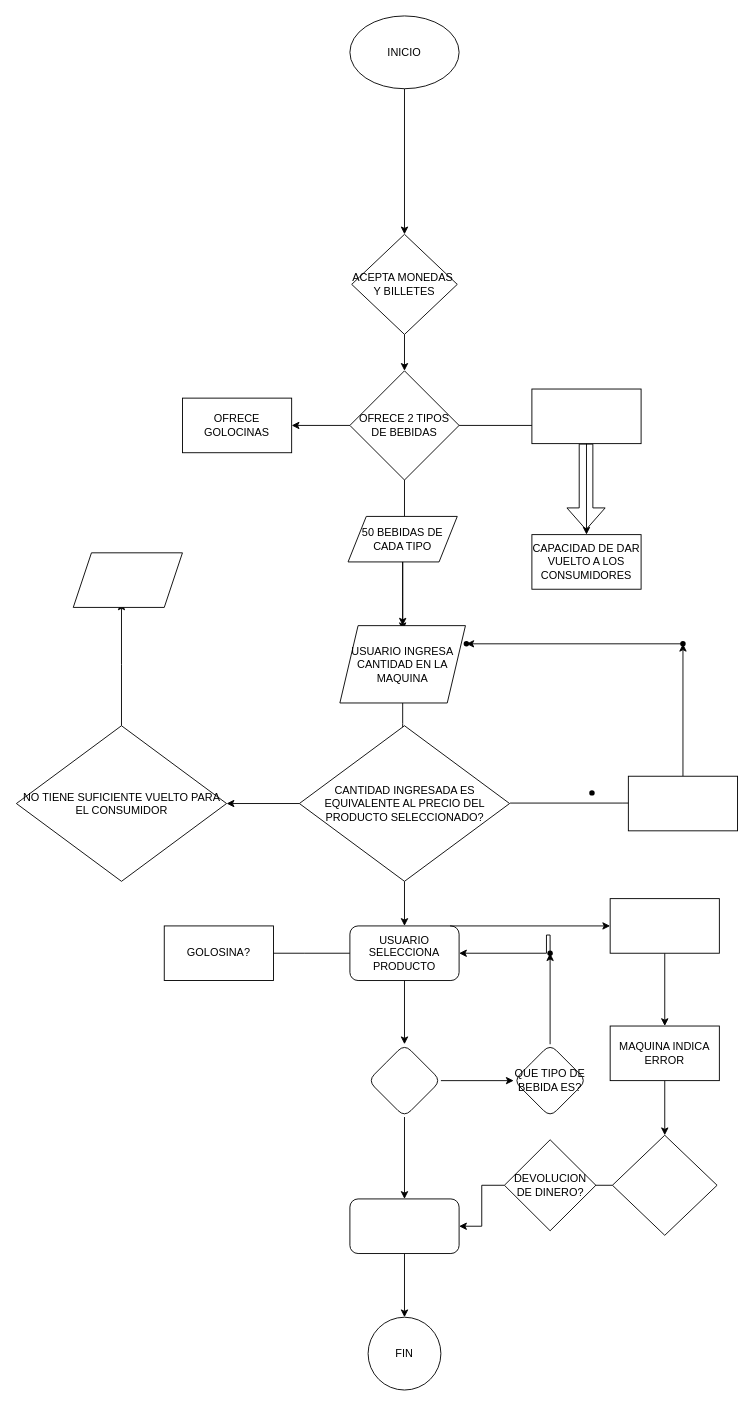
This 753x1406 diagram has some shape labels left out. The shapes that lost their labels are listed below. From the top down, each one's box as (x1, y1, x2, y2) in pixels, then its label:
(531, 388, 641, 444): CAPACIDAD DE SUMAR BILLETES Y MONEDAS
(72, 552, 182, 607): DEVUELVE EL DINERO
(627, 775, 738, 831): "INGRESE PRECIO MINIMO DE PRODUCTO"
(609, 898, 719, 953): USUARIO SELECCIONA CASILLA DE PRODUCTOS VACIA
(367, 1043, 441, 1117): ES BEBIDA?
(612, 1134, 717, 1235): DESEA CONTINUAR ?
(349, 1198, 459, 1254): MAQUINA ENTREGA EL PRODUCTO
